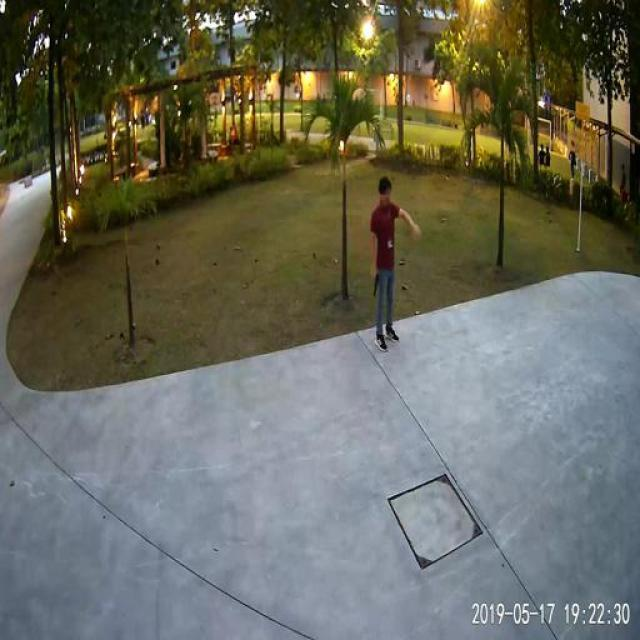Gun: (364, 261, 385, 308)
